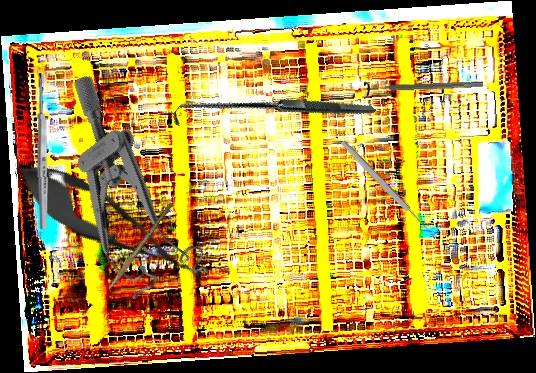Fixation Ring: (363, 74, 484, 101)
Hook Surgical: (168, 10, 377, 218)
Micro Scissor: (2, 146, 218, 302)
Scalpel Handle: (106, 200, 175, 293)
Speculum: (7, 71, 228, 319)
Surgical Spoon: (339, 139, 439, 241), (35, 66, 50, 230)
